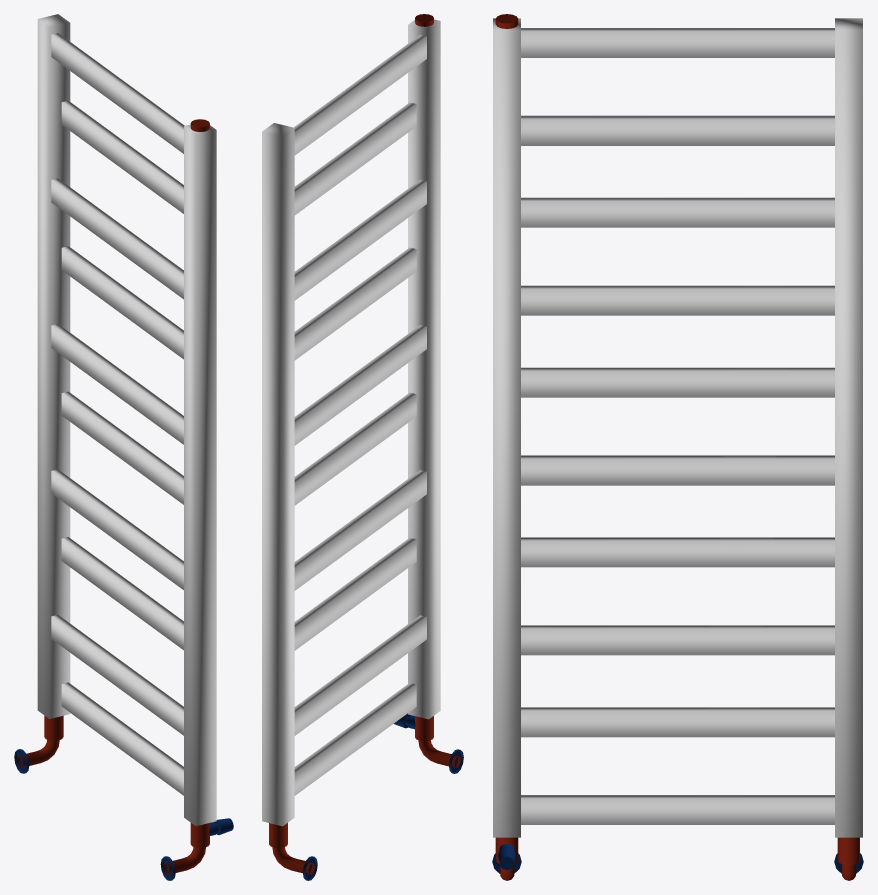
Rendered from dryer.obj.
3 renders of one model, left to right at view 1: azimuth 30°, elevation 25°; view 2: azimuth 150°, elevation 25°; view 3: azimuth 270°, elevation 25°, orthographic. The views are drawn at different scales.
Parts seen in each view (by area): view 1: obj3, obj4, obj1, obj2; view 2: obj3, obj4, obj1, obj2; view 3: obj4, obj3, obj1, obj2.
Boxes of the visible parts, <box> form: obj3: <box>37,14,216,825</box>; obj4: <box>51,33,184,795</box>; obj1: <box>17,119,209,874</box>; obj2: <box>14,749,233,880</box>; obj3: <box>262,19,440,826</box>; obj4: <box>294,35,426,795</box>; obj1: <box>269,14,460,874</box>; obj2: <box>303,713,463,880</box>; obj4: <box>521,28,834,824</box>; obj3: <box>493,18,862,837</box>; obj1: <box>495,14,859,880</box>; obj2: <box>492,844,863,873</box>.
Size of the model in its own units: 0.4896 by 5.49 by 2.11.
